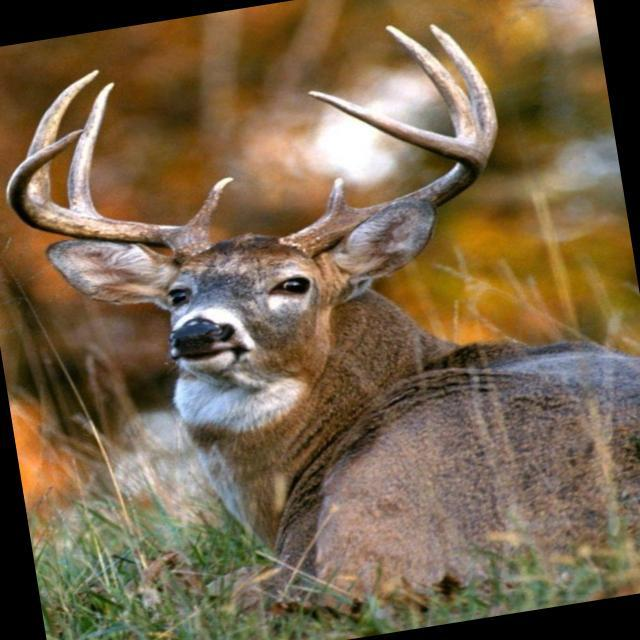L-F: (280, 90, 489, 257)
L-G1: (324, 177, 357, 214)
L-G3: (385, 24, 486, 149)
R-F: (5, 130, 215, 262)
R-G1: (184, 177, 234, 234)
R-G2: (68, 82, 116, 217)
